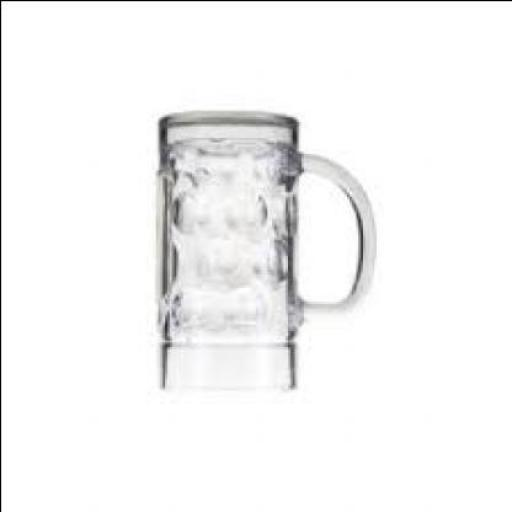glass: (155, 113, 371, 394)
